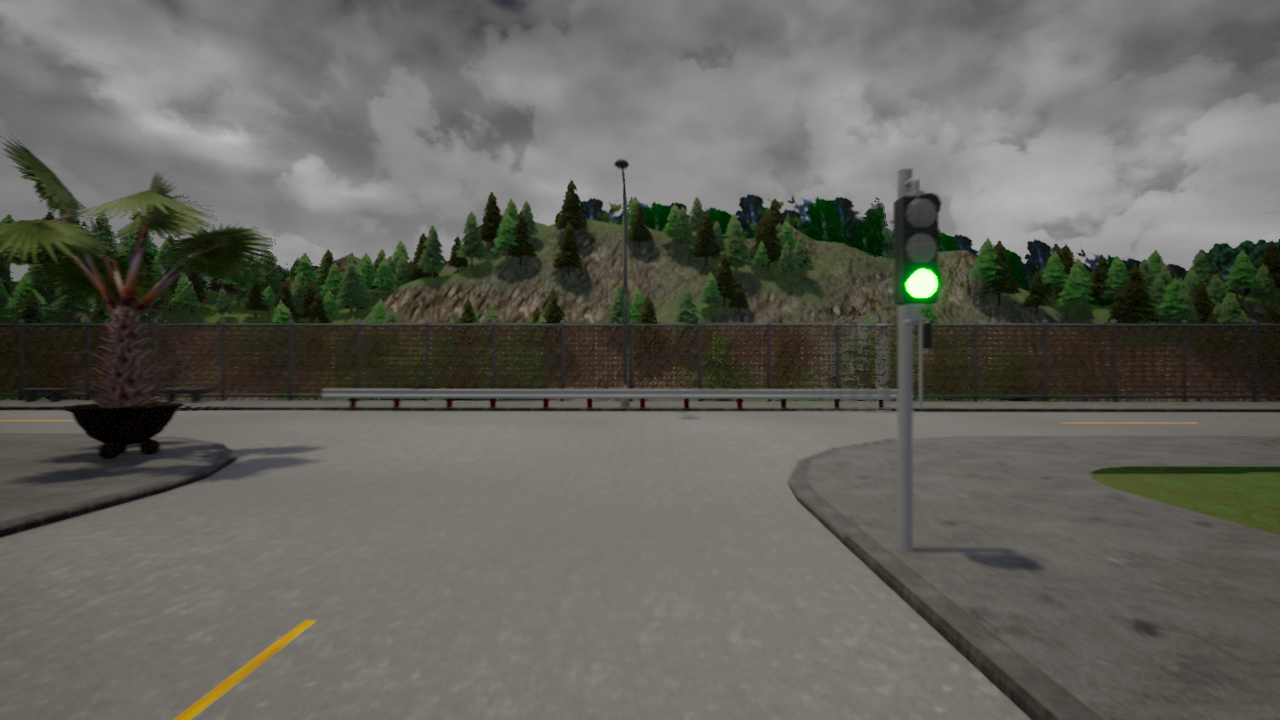green: (891, 193, 942, 305)
